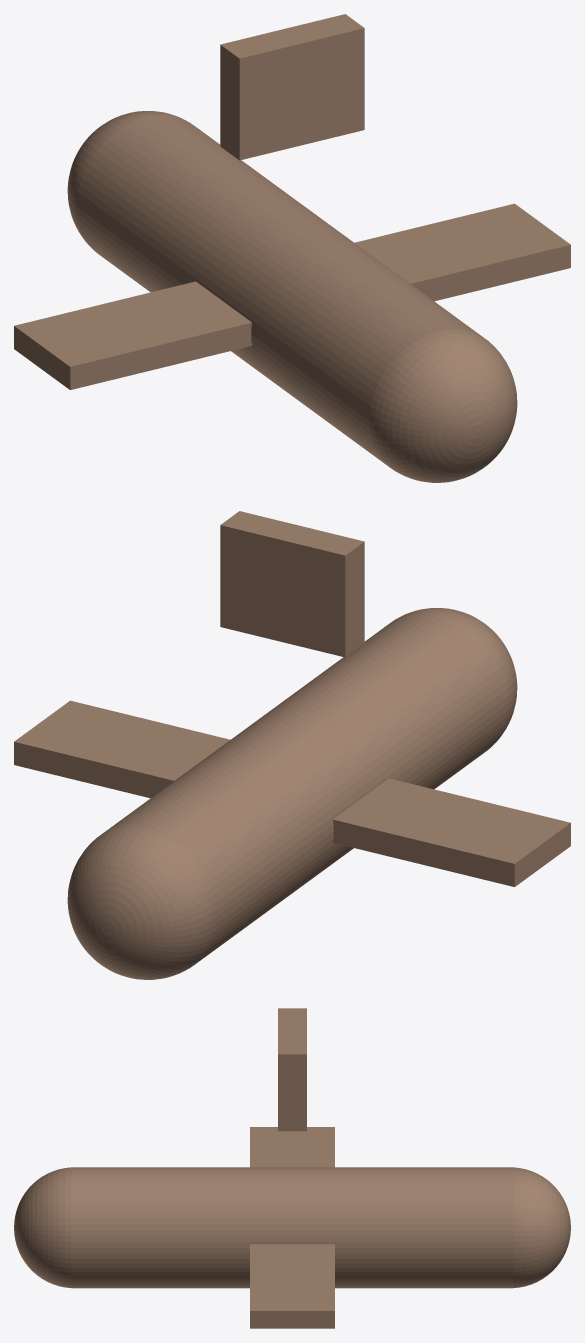
Rendered from tech_147.glb.
3 renders of one model, top to bottom at view 1: azimuth 30°, elevation 25°; view 2: azimuth 150°, elevation 25°; view 3: azimuth 270°, elevation 25°, orthographic. The views are drawn at different scales.
Visible parts, largest first — view 1: world; view 2: world; view 3: world.
Part boxes in pixels (x1,y1,x2,y2): world: (14, 14, 570, 482); world: (14, 511, 570, 979); world: (14, 1008, 570, 1328).
Size of the model in its own units: 1.8 by 1.14 by 2.3.
